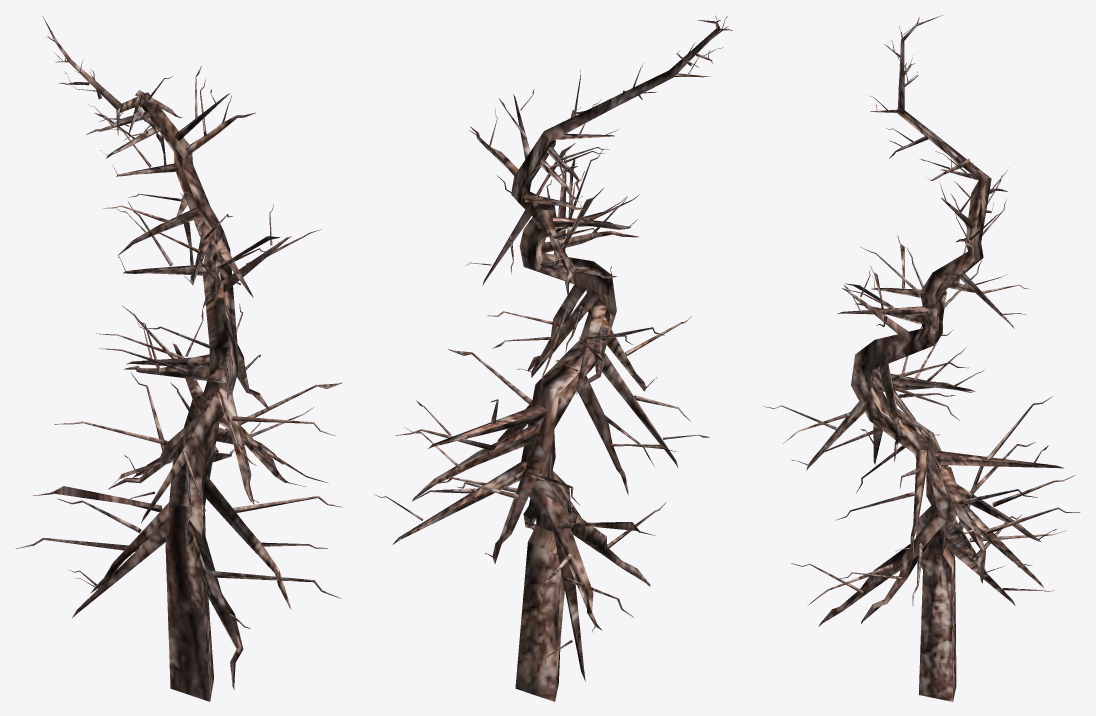
Rendered from TreeB.fbx.
The picture shows the model from 3 angles, left to right: view 1: azimuth 30°, elevation 25°; view 2: azimuth 150°, elevation 25°; view 3: azimuth 270°, elevation 25°; orthographic projection. The views are drawn at different scales.
Visible parts, largest first — view 1: TreeB; view 2: TreeB; view 3: TreeB.
Boxes of the visible parts, x1,y1,x2,y2 form: TreeB: (15, 16, 343, 701); TreeB: (374, 15, 732, 701); TreeB: (763, 15, 1080, 701).
Bounding box in the file's own units: 356 × 820 × 385.
